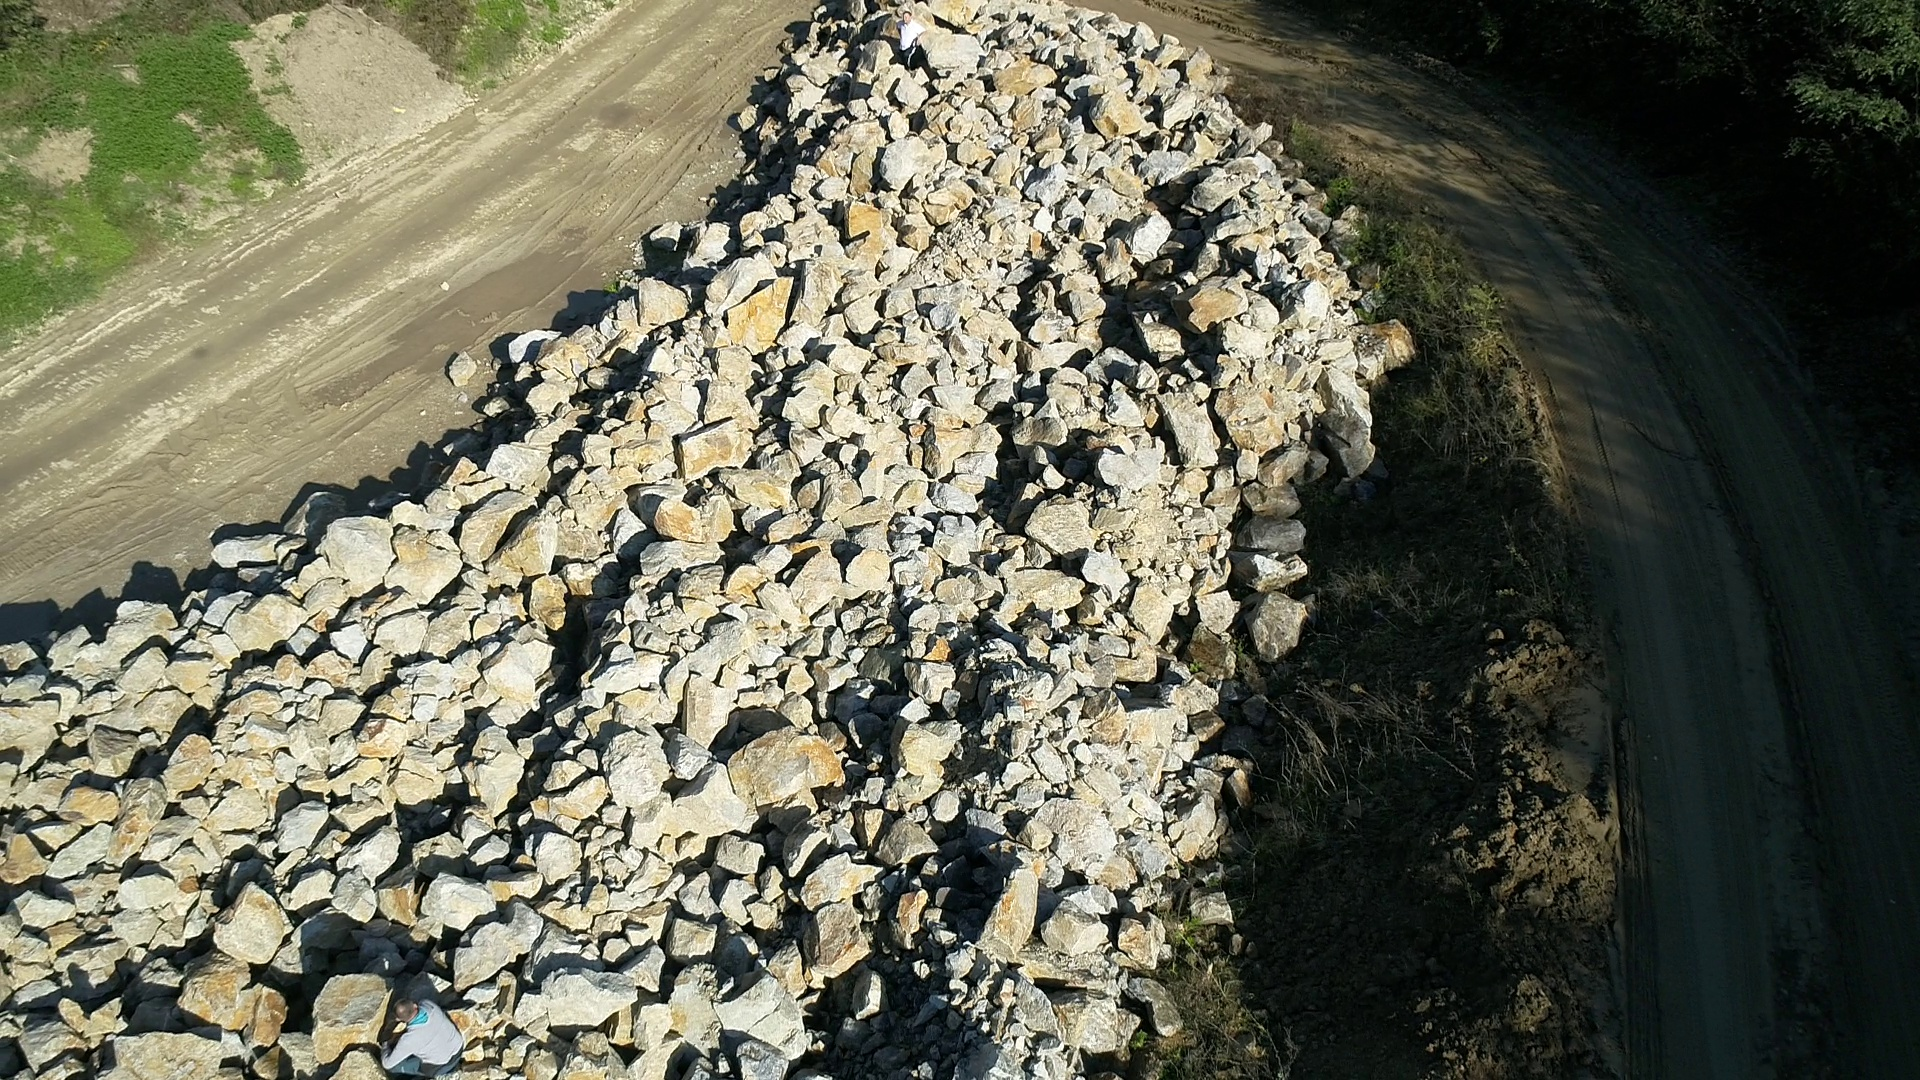person: (381, 998, 463, 1077), (896, 10, 929, 73)
